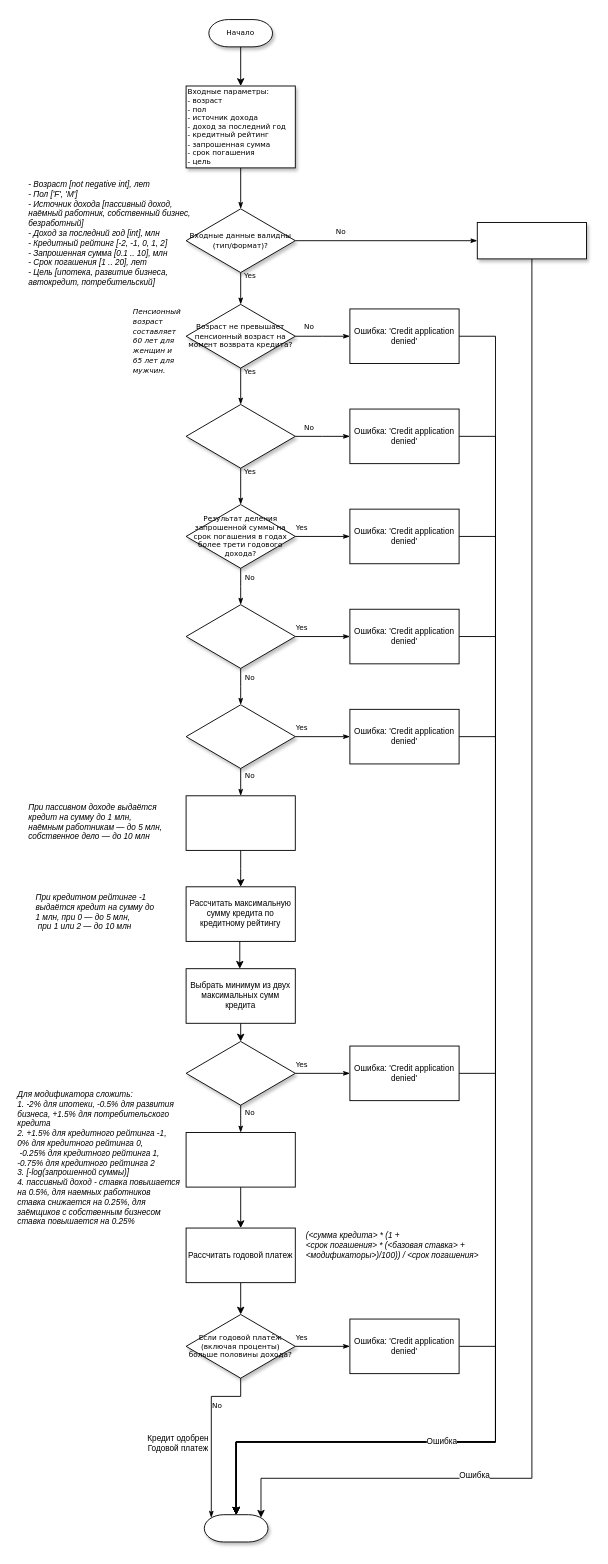
Some shapes in this 608 by 1564 pixel diagram are drawn without their labels. The centre of each missing label's shape, as x and y in pixels:
В источнике дохода указано "безработный"?: [241,737]
Конец, парам парам пам: [236,1529]
Кредитный рейтинг -2?: [241,637]
Минимум меньше запрошенной суммы?: [241,1074]
Ошибка: 'Data validation fails': [532,241]
Рассчитать максимальную сумму кредита по типу дохода: [240,822]
Рассчитать процентную ставку (базовая + модификатор): [240,1159]
Человек совершеннолетний?: [241,437]
